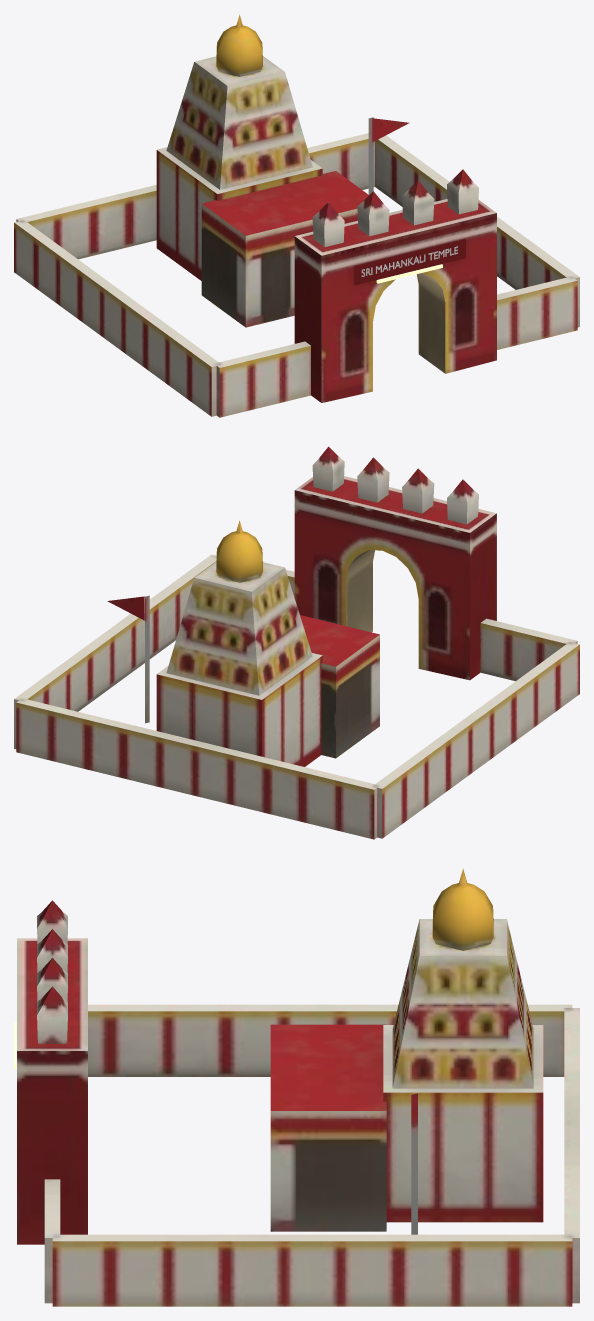
File: lal_darwaza_temple.glb
The picture shows the model from 3 angles, top to bottom: view 1: azimuth 30°, elevation 25°; view 2: azimuth 150°, elevation 25°; view 3: azimuth 270°, elevation 25°; orthographic projection. The views are drawn at different scales.
Parts seen in each view (by area): view 1: lal_darwaza_temple_body, ld_board; view 2: lal_darwaza_temple_body; view 3: lal_darwaza_temple_body.
Boxes of the visible parts, x1=… form: lal_darwaza_temple_body: x1=14, y1=14, x2=579, y2=417; ld_board: x1=354, y1=239, x2=465, y2=285; lal_darwaza_temple_body: x1=14, y1=446, x2=579, y2=839; lal_darwaza_temple_body: x1=17, y1=868, x2=579, y2=1306.
Bounding box in the file's own units: 39.5 × 25.04 × 39.97.
3 materials, 2 textured.
